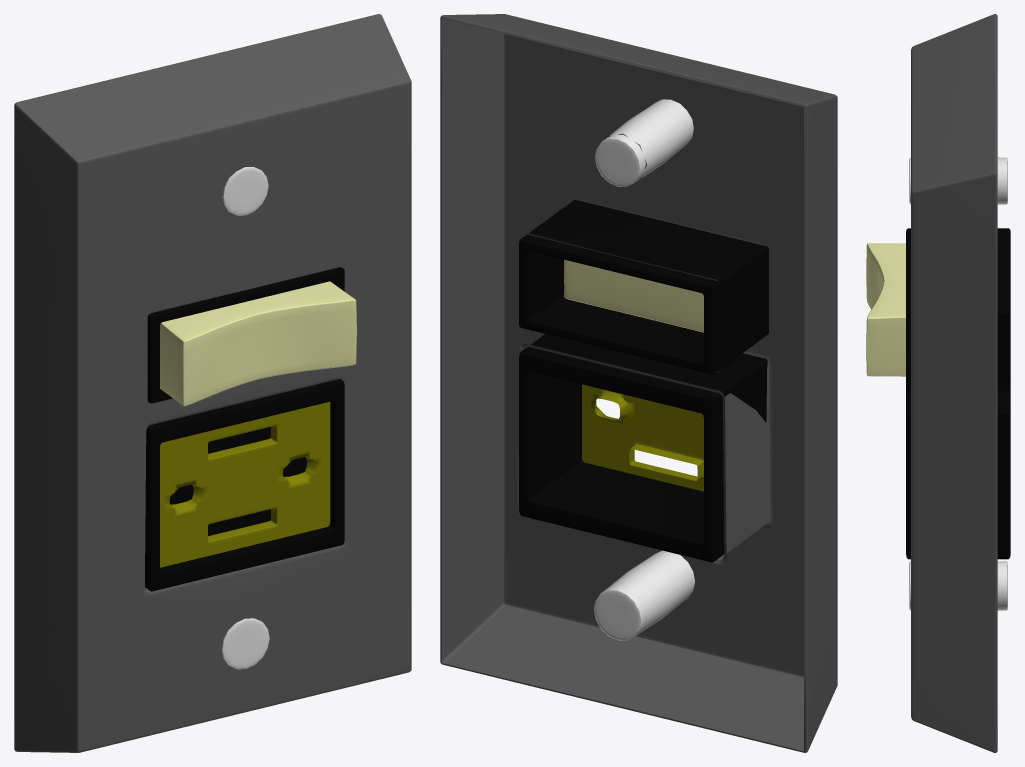
File: INTE_Interruptor_ComTomada.fbx
3 views of the same model, side by side, from view 1: azimuth 30°, elevation 25°; view 2: azimuth 150°, elevation 25°; view 3: azimuth 270°, elevation 25° (orthographic). The views are drawn at different scales.
Parts seen in each view (by area): view 1: Base, Tomada, Botao, DetPreto_Tomada, DetPreto_Botao, Parafusos, Fundo_Tomada; view 2: Base, DetPreto_Tomada, DetPreto_Botao, Parafusos, Tomada, Botao; view 3: Base, Botao, DetPreto_Tomada, DetPreto_Botao, Parafusos.
Boxes of the visible parts, left/top/right/bottom form: Base: left=14, top=14, right=411, bottom=752; Tomada: left=160, top=402, right=330, bottom=567; Botao: left=160, top=281, right=356, bottom=406; DetPreto_Tomada: left=145, top=379, right=344, bottom=591; DetPreto_Botao: left=147, top=267, right=344, bottom=403; Parafusos: left=221, top=167, right=269, bottom=669; Fundo_Tomada: left=169, top=427, right=306, bottom=535; Base: left=440, top=14, right=837, bottom=752; DetPreto_Tomada: left=519, top=334, right=767, bottom=562; DetPreto_Botao: left=519, top=199, right=768, bottom=374; Parafusos: left=594, top=99, right=694, bottom=640; Tomada: left=582, top=384, right=703, bottom=491; Botao: left=564, top=259, right=703, bottom=332; Base: left=911, top=14, right=997, bottom=752; Botao: left=866, top=243, right=905, bottom=376; DetPreto_Tomada: left=906, top=388, right=1010, bottom=559; DetPreto_Botao: left=906, top=228, right=1010, bottom=390; Parafusos: left=909, top=157, right=1007, bottom=610.
Size of the model in its own units: 0.8767 by 1.48 by 0.3333.
